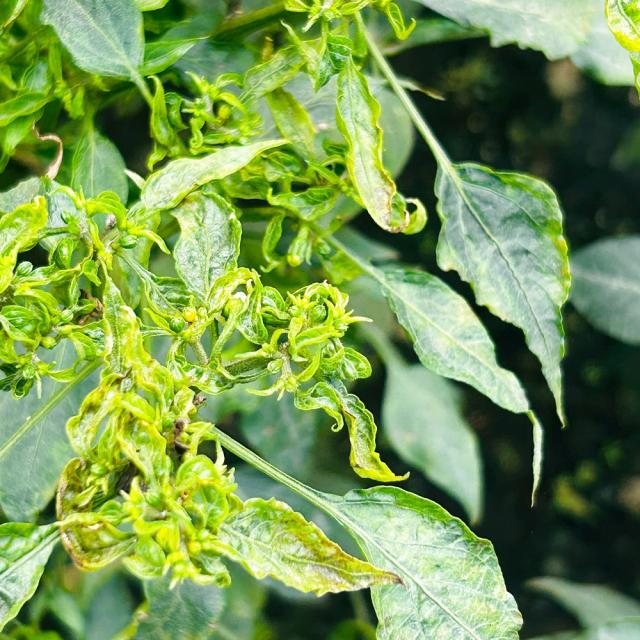Chilli_Leaf_Curl: (1, 0, 581, 638), (190, 422, 524, 638), (433, 160, 572, 428), (333, 483, 523, 639), (216, 495, 406, 597), (331, 52, 409, 234), (137, 136, 292, 215)
